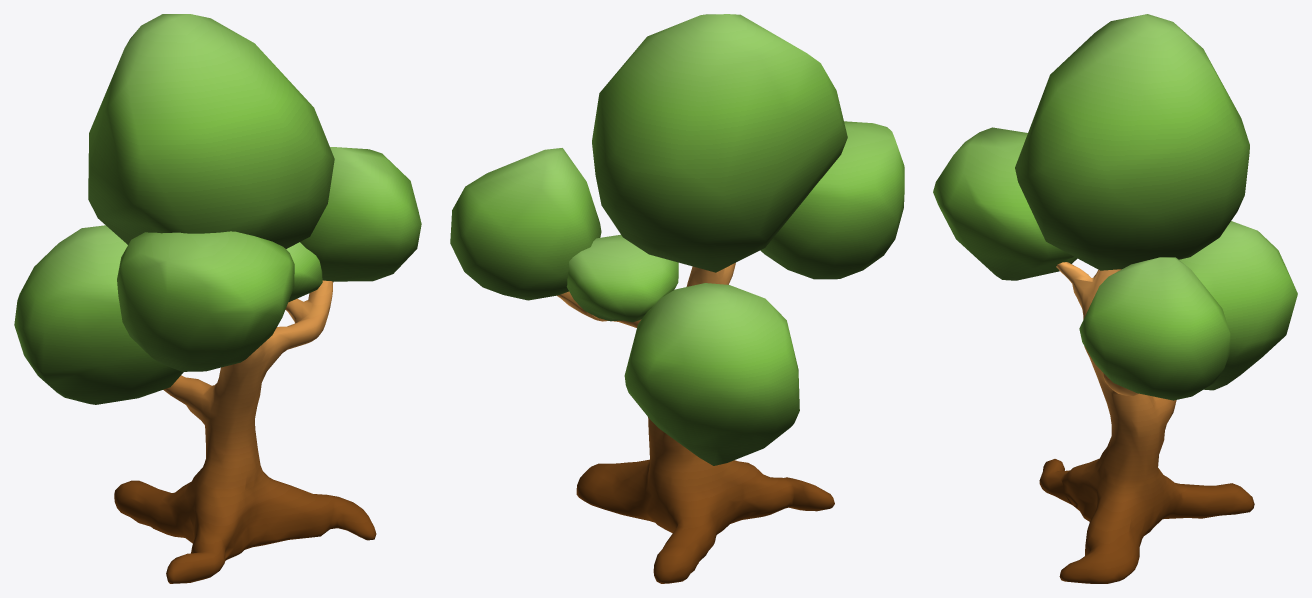
File: Tree2 B2G2.fbx
3 renders of one model, left to right at view 1: azimuth 30°, elevation 25°; view 2: azimuth 150°, elevation 25°; view 3: azimuth 270°, elevation 25°, orthographic. The views are drawn at different scales.
Parts seen in each view (by area): view 1: Tree2 Leaves.008, Tree2 B2, Tree2 Leaves.005, Tree2 Leaves.006, Tree2 Leaves.007, Tree2 Leaves.009; view 2: Tree2 Leaves.008, Tree2 Leaves.006, Tree2 B2, Tree2 Leaves.007, Tree2 Leaves.005, Tree2 Leaves.009; view 3: Tree2 Leaves.008, Tree2 B2, Tree2 Leaves.007, Tree2 Leaves.005, Tree2 Leaves.006.
Part boxes in pixels (bbox=[...]): Tree2 Leaves.008: bbox=[88, 14, 334, 248]; Tree2 B2: bbox=[114, 280, 376, 583]; Tree2 Leaves.005: bbox=[117, 231, 294, 371]; Tree2 Leaves.006: bbox=[14, 225, 183, 404]; Tree2 Leaves.007: bbox=[300, 147, 421, 281]; Tree2 Leaves.009: bbox=[286, 242, 322, 302]; Tree2 Leaves.008: bbox=[592, 14, 847, 272]; Tree2 Leaves.006: bbox=[624, 283, 799, 465]; Tree2 B2: bbox=[557, 262, 834, 583]; Tree2 Leaves.007: bbox=[450, 148, 601, 300]; Tree2 Leaves.005: bbox=[760, 121, 904, 279]; Tree2 Leaves.009: bbox=[566, 234, 678, 322]; Tree2 Leaves.008: bbox=[1015, 14, 1249, 270]; Tree2 B2: bbox=[1039, 262, 1254, 583]; Tree2 Leaves.007: bbox=[1079, 257, 1230, 400]; Tree2 Leaves.005: bbox=[933, 127, 1077, 280]; Tree2 Leaves.006: bbox=[1179, 221, 1297, 390].
Size of the model in its own units: 24.04 by 22.53 by 33.79.
